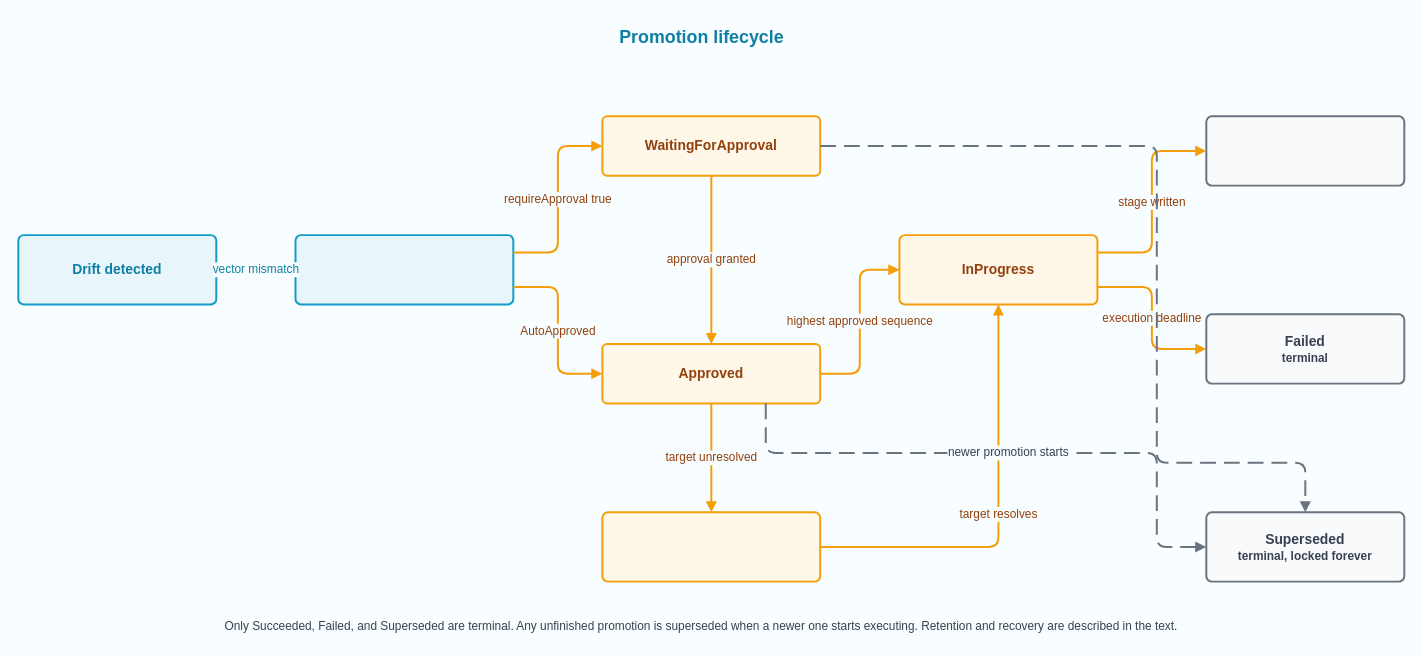
Image size: 1422x657. Some labels were removed from this diagram. The shapes that lost their labels are listed below. From the top down, each one's centre as x and y in pixels, then its label:
pixel 1305 150: Succeeded terminal
pixel 404 269: Pending promotion created, ordinal stamped
pixel 711 546: Blocked retried, not terminal
